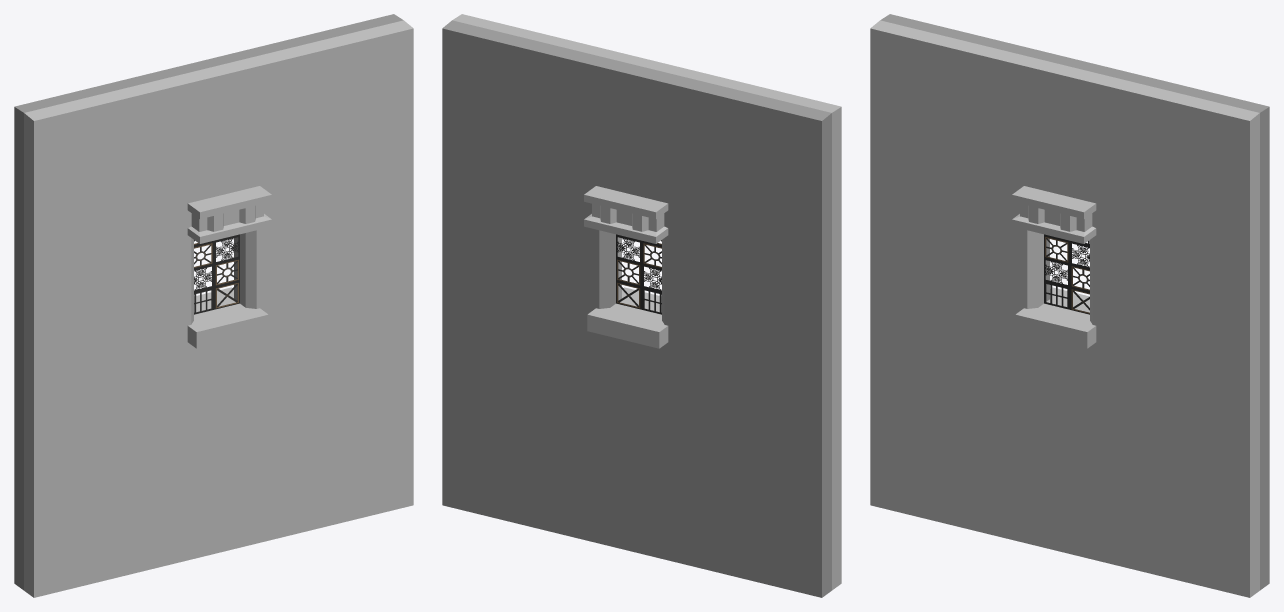
The model's file is SM_Bld_Wall_Window_03.fbx.
3 renders of one model, left to right at view 1: azimuth 30°, elevation 25°; view 2: azimuth 150°, elevation 25°; view 3: azimuth 330°, elevation 25°, orthographic.
Visible parts, largest first — view 1: SM_Bld_Wall_Window_03; view 2: SM_Bld_Wall_Window_03; view 3: SM_Bld_Wall_Window_03.
Part boxes in pixels (x1,y1,x2,y2): SM_Bld_Wall_Window_03: (14, 14, 413, 597); SM_Bld_Wall_Window_03: (442, 14, 841, 597); SM_Bld_Wall_Window_03: (870, 14, 1269, 597).
Bounding box in the file's own units: 250 × 301 × 50.07.
